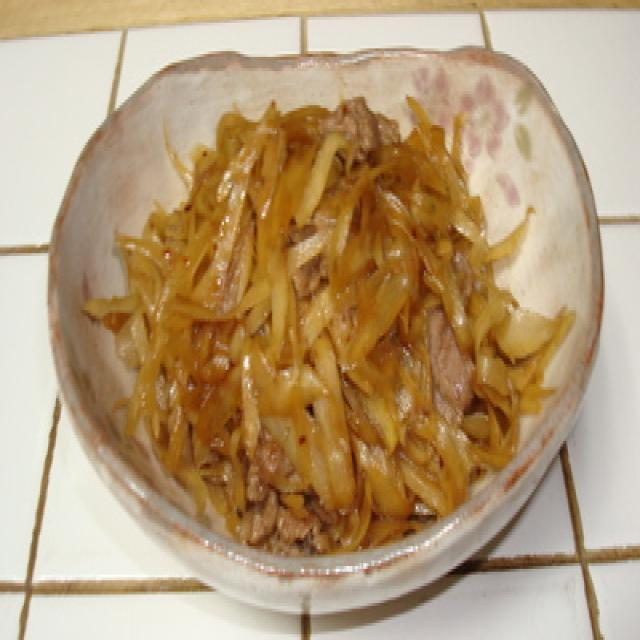蔬菜料理: (62, 94, 640, 640)
